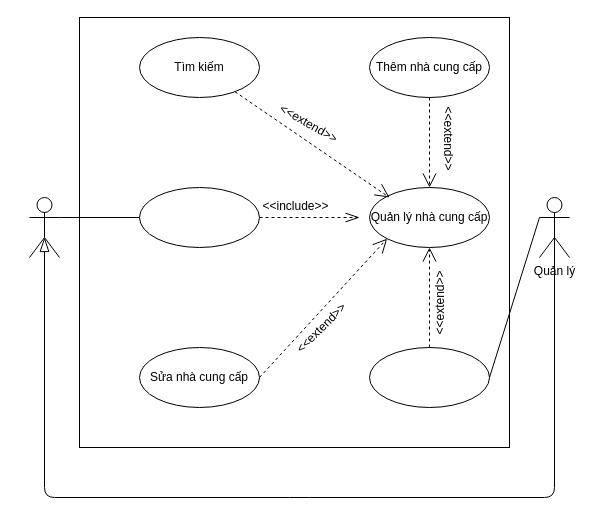
Some shapes in this 592 by 529 pixel diagram are drawn without their labels. Each missing label, with the centre of its shape:
"Nhân viên" goes at point 44,227.
"Xóa nhà cung cấp" goes at point 429,377.
"Đăng nhập" goes at point 199,217.
